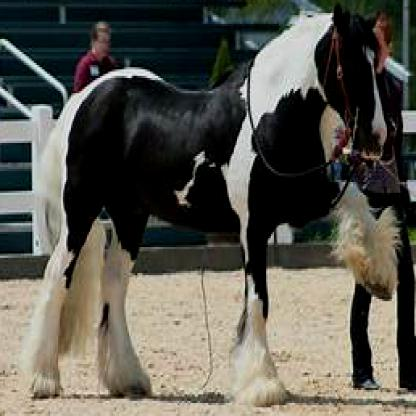horse: (29, 2, 397, 403)
